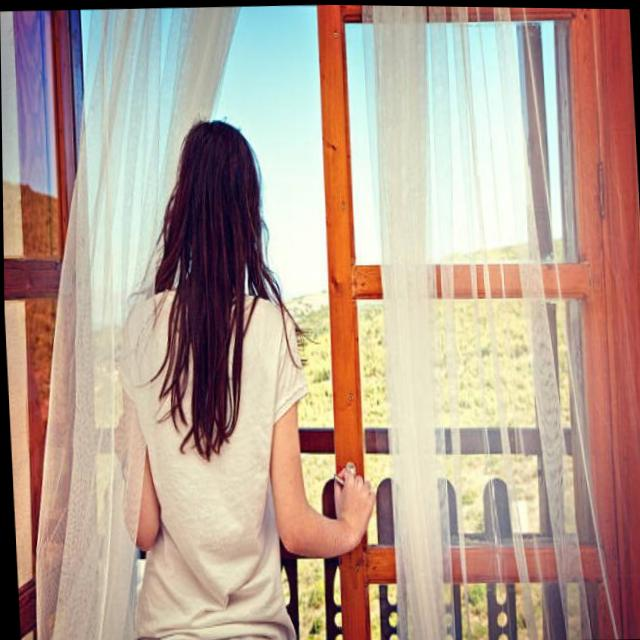no helmet: (153, 114, 286, 305)
